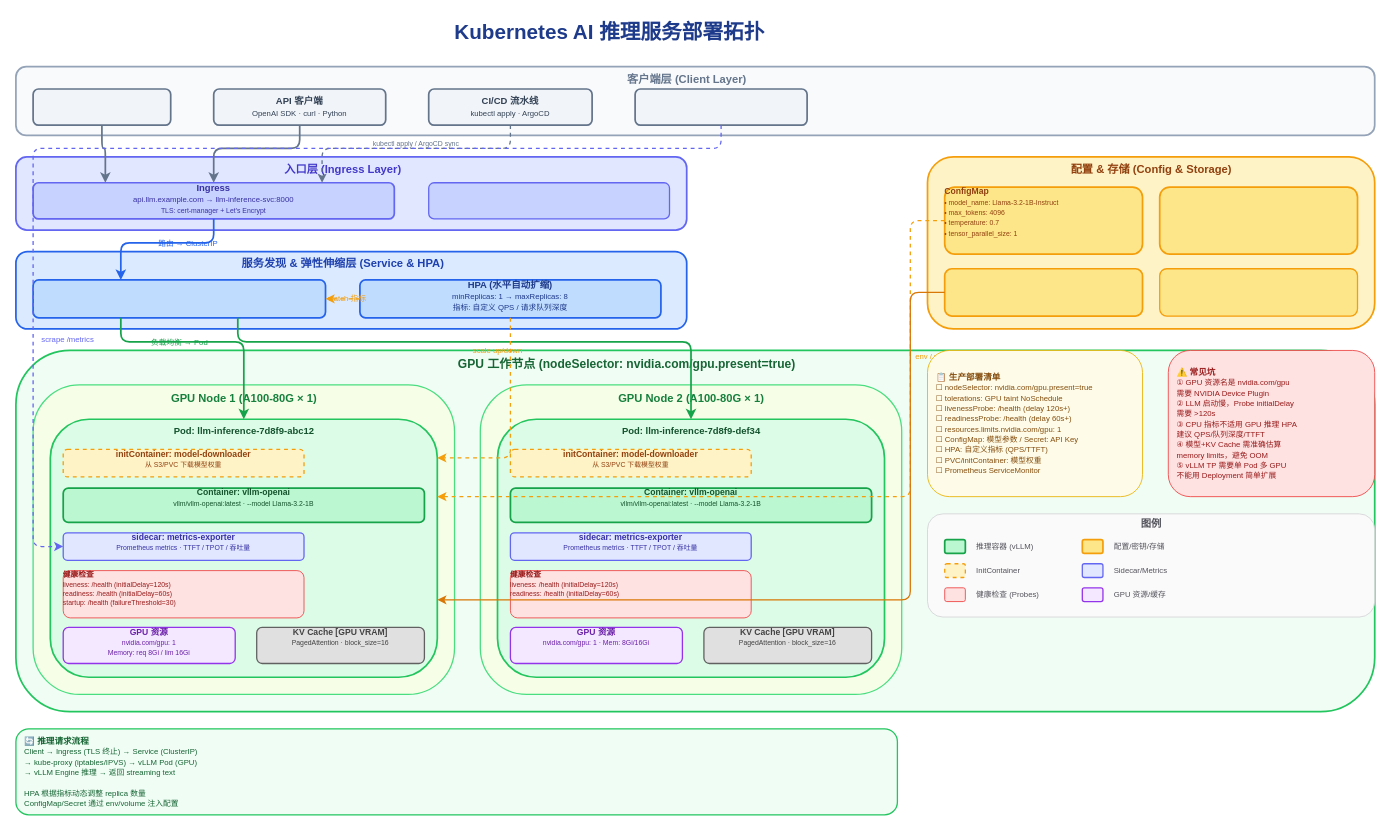
This 1390x830 diagram has some shape labels left out. Each missing label, with the centre of its shape:
Gateway API HTTPRoute: /v1/chat/* → llm-svc: [549,200]
PVC (持久化存储) • StorageClass: ssd-gp3 • 容量: 100Gi • 用途: 模型权重缓存 / 共享存储: [1043,291]
Secret • API_KEY: *** • HF_TOKEN: *** • DB_PASSWORD: ***: [1258,220]
Service (ClusterIP) llm-inference-svc:8000 → targetPort:8000: [179,298]
Web 客户端 Chat UI · 浏览器: [101,107]
模型仓库 • S3 / OSS 对象存储 • Hugging Face Hub: [1258,292]
监控系统 Prometheus · Grafana · 告警: [721,107]
